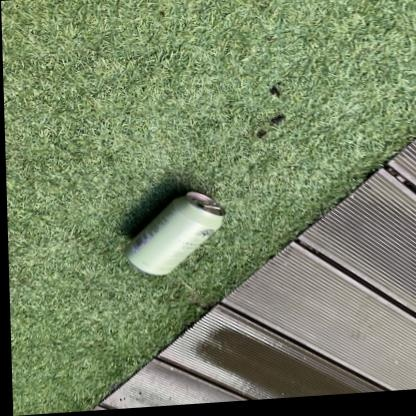trash: (128, 192, 224, 274)
